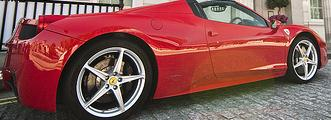backlight: (13, 9, 67, 46)
side_glass: (171, 0, 279, 32)
